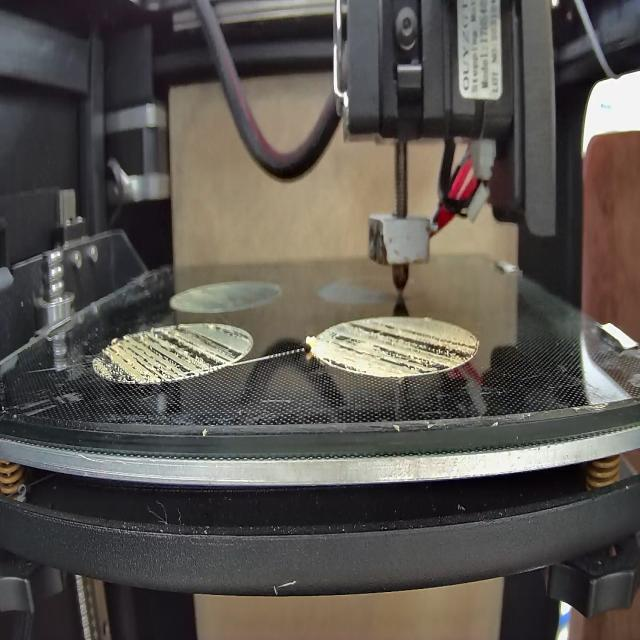under_extrusion: (320, 324, 478, 374)
